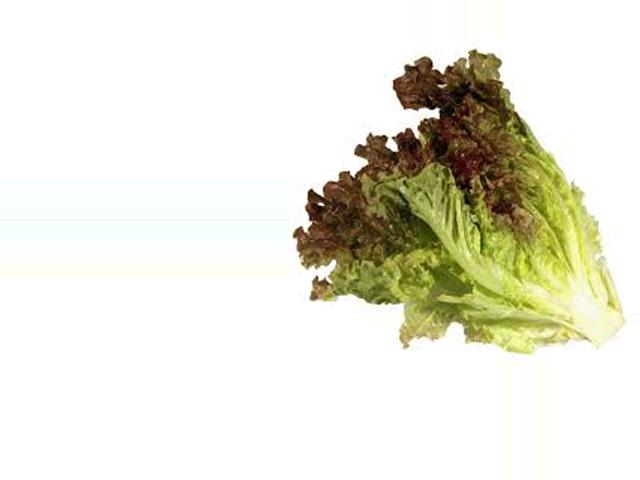lettuce: (291, 54, 618, 347)
